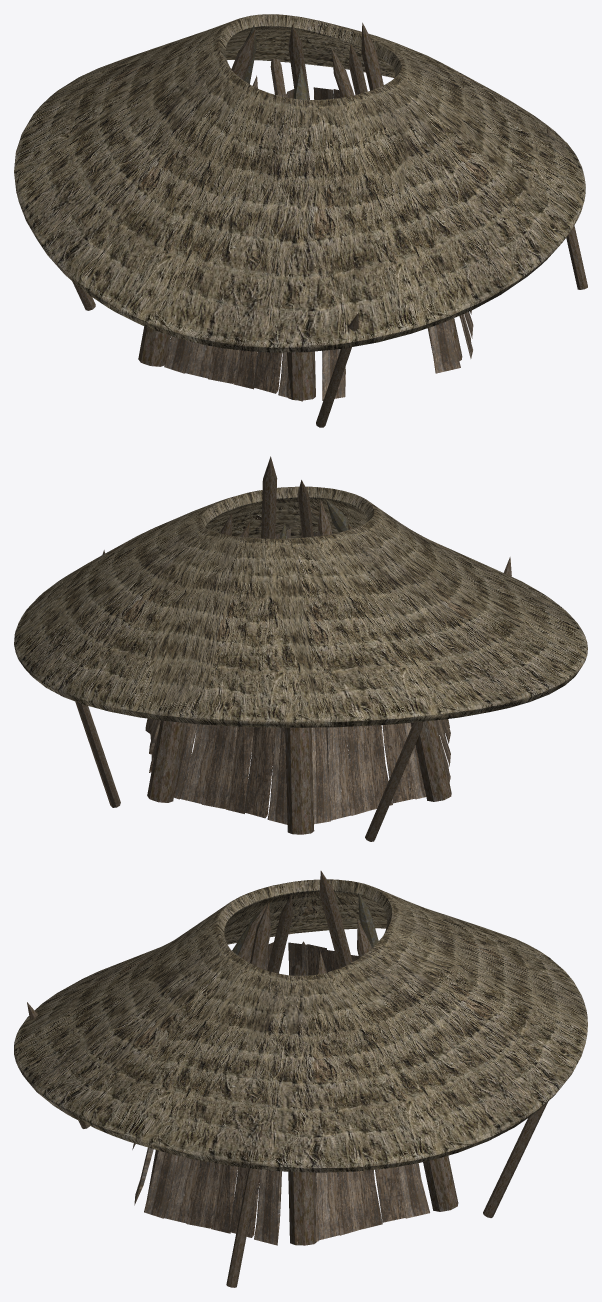
File: bohio_redondo.glb
3 renders of one model, top to bottom at view 1: azimuth 30°, elevation 25°; view 2: azimuth 150°, elevation 25°; view 3: azimuth 270°, elevation 25°, orthographic. The views are drawn at different scales.
Parts seen in each view (by area): view 1: bohio_redondo; view 2: bohio_redondo; view 3: bohio_redondo.
Boxes of the visible parts, <box> form: bohio_redondo: <box>14,14,587,427</box>; bohio_redondo: <box>14,456,587,841</box>; bohio_redondo: <box>14,871,587,1287</box>.
Size of the model in its own units: 6.32 by 3.63 by 6.38.
Materials: 4 (4 with a texture image).
